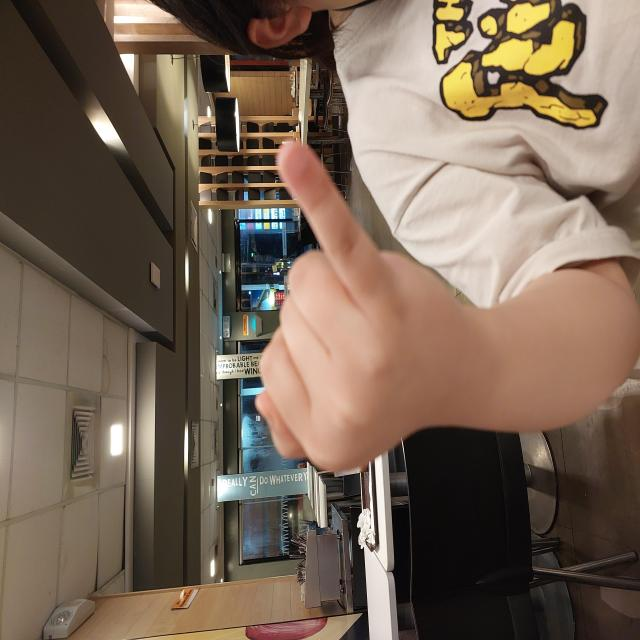J: (166, 254, 502, 458)
